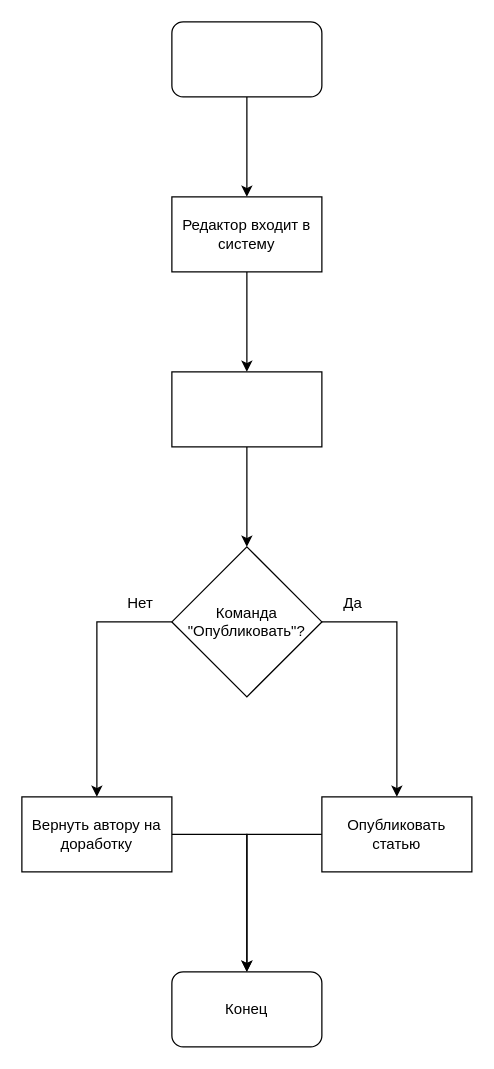
This 494x1069 diagram has some shape labels left out. Each missing label, with the centre of its shape:
"Начало" belongs at point (246, 59).
"Редактор открывает статью" belongs at point (246, 409).
